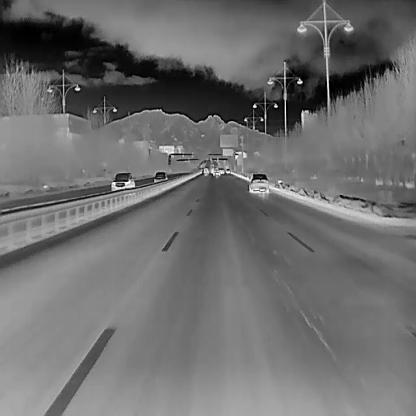car: (111, 172, 135, 190), (248, 173, 269, 193), (152, 171, 168, 182), (202, 167, 209, 175), (213, 168, 220, 176), (218, 166, 224, 174), (225, 167, 231, 174)
